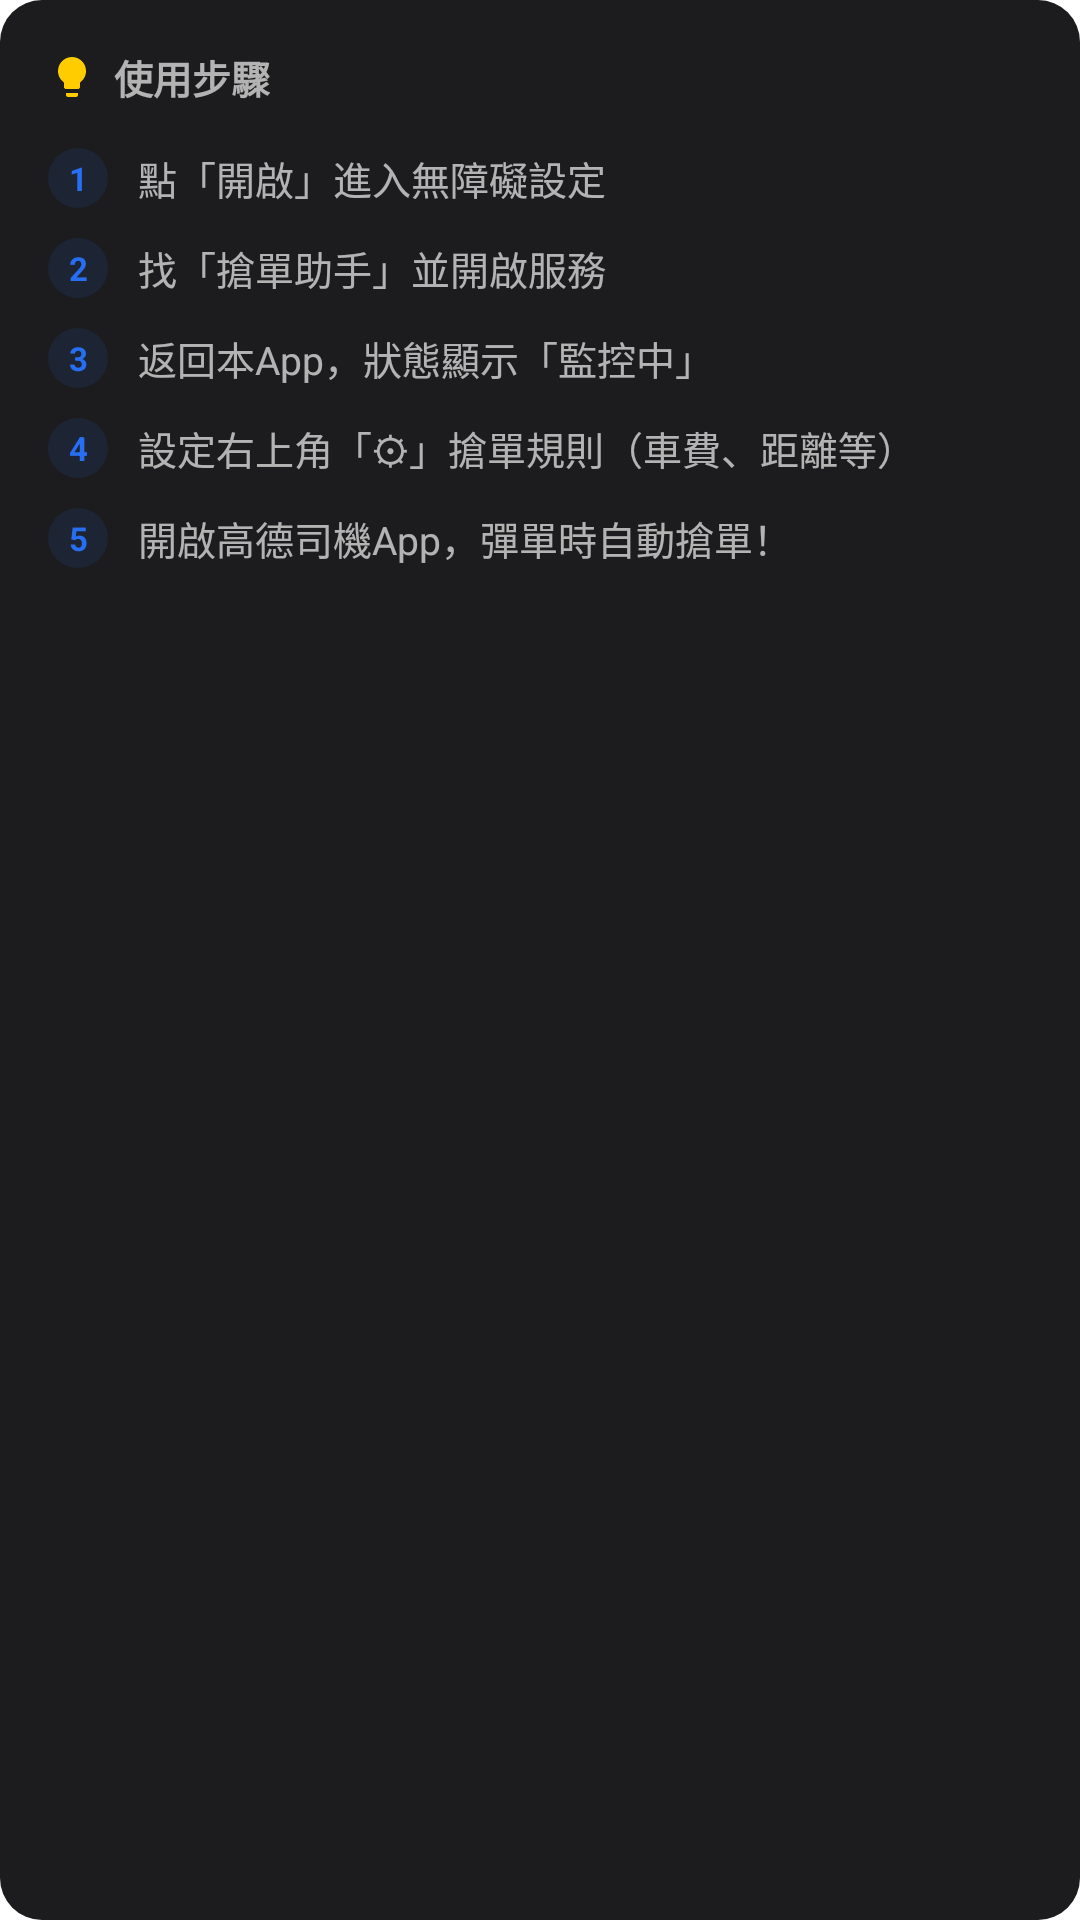

Point at icon controls on the screen. Image size 1080 × 1920, points as (x=x, y=y).
lightbulb: (x=72, y=77)
